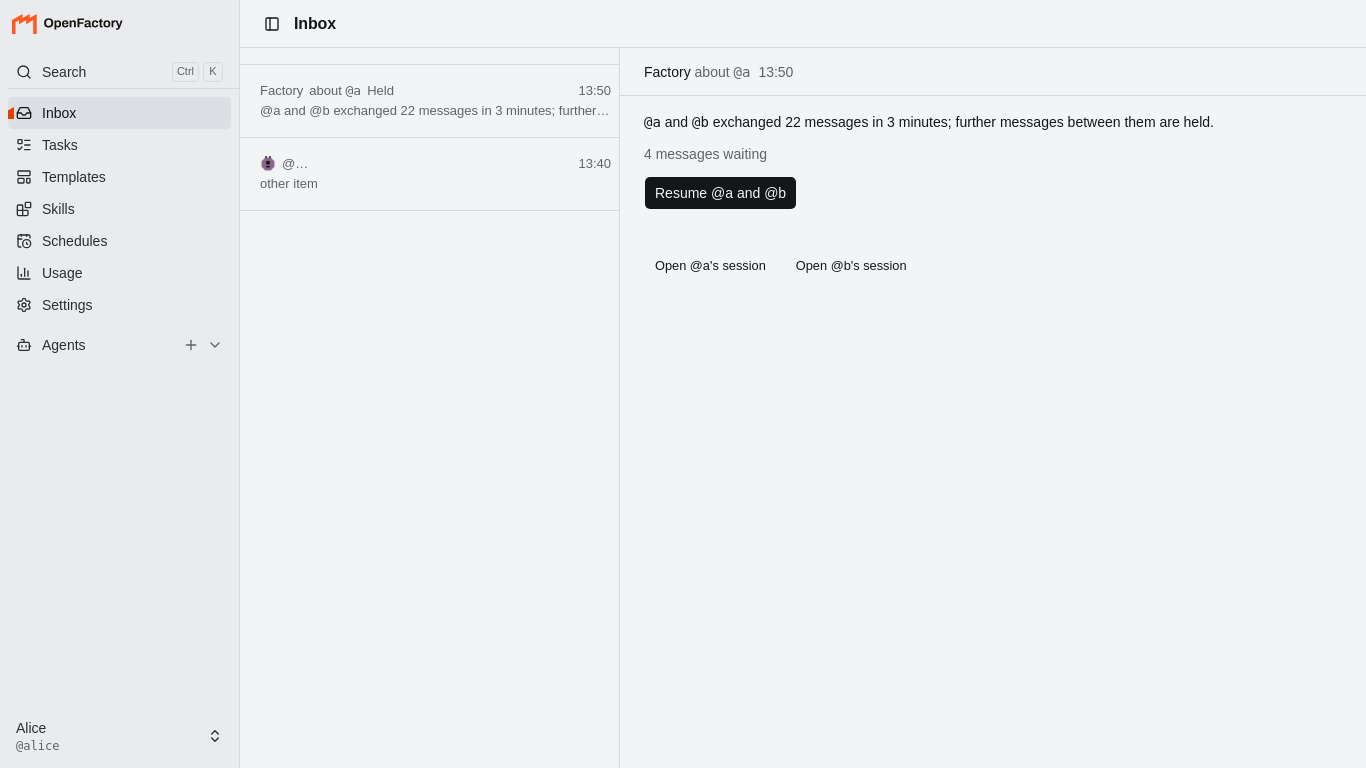
Test: Resume posts once, shows Resuming… aria-disabled, then the status line takes focus
Later steps or results of the test are not shown.
Expected: the text "exchanged 22 messages" is shown, x1=709 y1=114 x2=1214 y2=130
Click the button "Resume @a and @b".
click(721, 193)  # box x1=644 y1=176 x2=797 y2=210
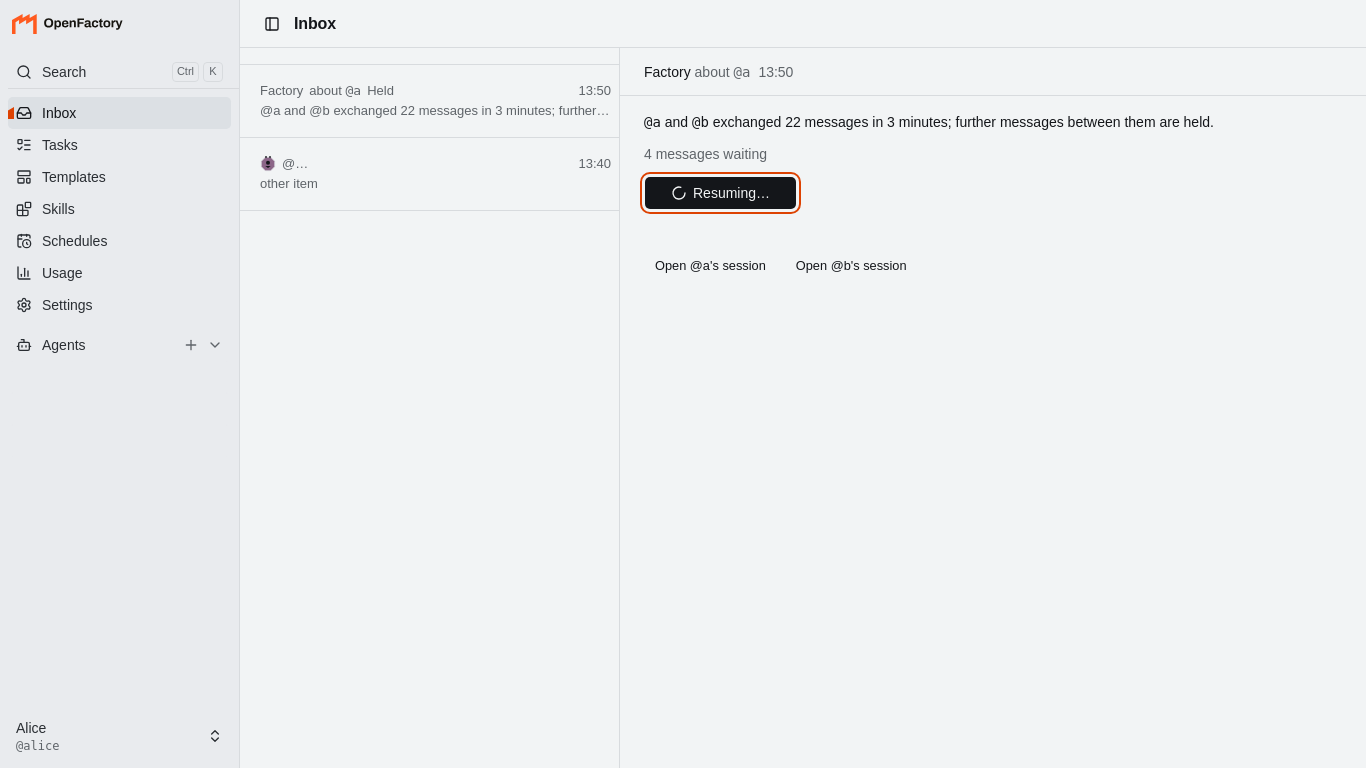
Expected: the button "Resuming…" is disabled, x1=644 y1=176 x2=797 y2=210
Expected: the button "Resuming…" has attribute aria-busy="true", x1=644 y1=176 x2=797 y2=210
